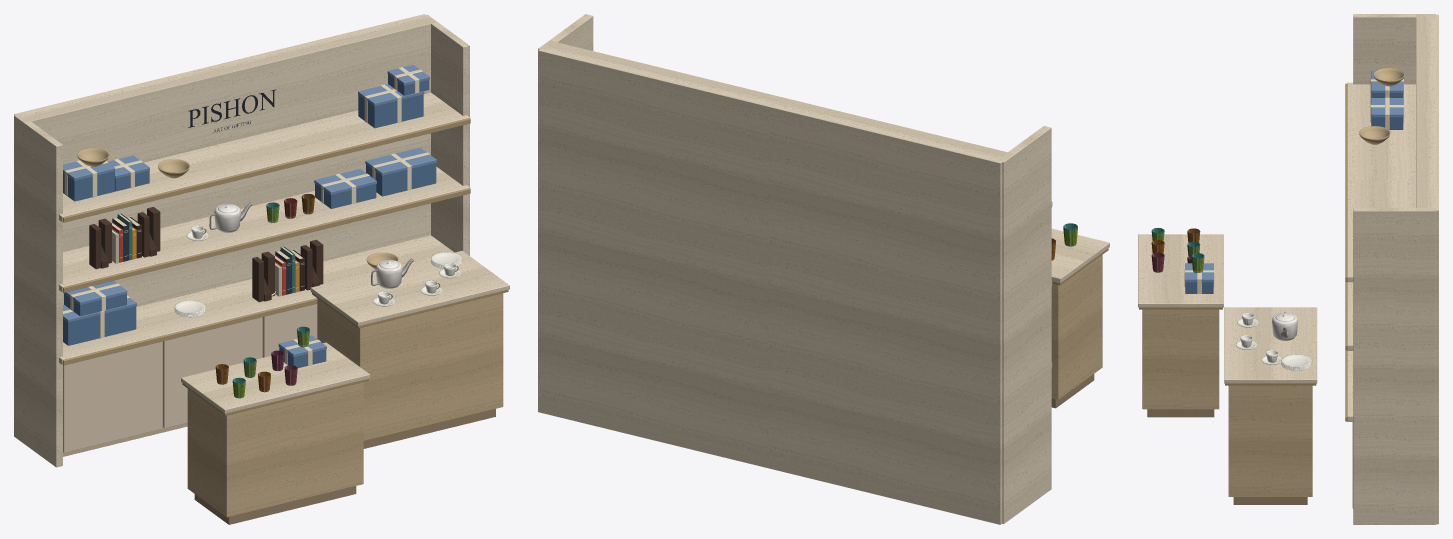
Rendered from gallery.glb.
3 views of the same model, side by side, from view 1: azimuth 30°, elevation 25°; view 2: azimuth 150°, elevation 25°; view 3: azimuth 270°, elevation 25° (orthographic). The views are drawn at different scales.
Visible parts, largest first — view 1: PishonTravertine, PishonPaper, PishonSilver, PishonPorcelain, PishonPrism; view 2: PishonTravertine; view 3: PishonTravertine, PishonSilver, PishonPaper, PishonPorcelain, PishonPrism.
Boxes of the visible parts, <box> form: PishonTravertine: <box>14,14,509,517</box>; PishonPaper: <box>63,64,436,456</box>; PishonSilver: <box>63,118,508,524</box>; PishonPorcelain: <box>174,204,461,317</box>; PishonPrism: <box>215,193,314,398</box>; PishonTravertine: <box>538,14,1109,524</box>; PishonTravertine: <box>1138,14,1438,524</box>; PishonSilver: <box>1139,68,1404,504</box>; PishonPaper: <box>1184,70,1403,508</box>; PishonPorcelain: <box>1236,312,1311,370</box>; PishonPrism: <box>1151,228,1204,272</box>.
Bounding box in the file's own units: 3.28 × 2.43 × 2.11.
Materials: 5 (1 with a texture image).
